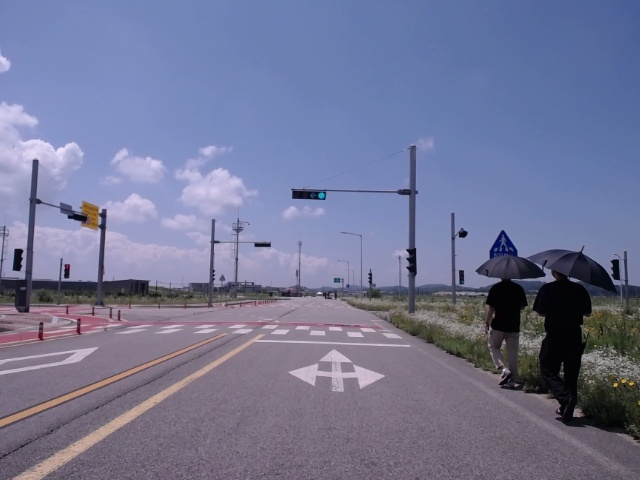all_green_4: (292, 185, 332, 201)
